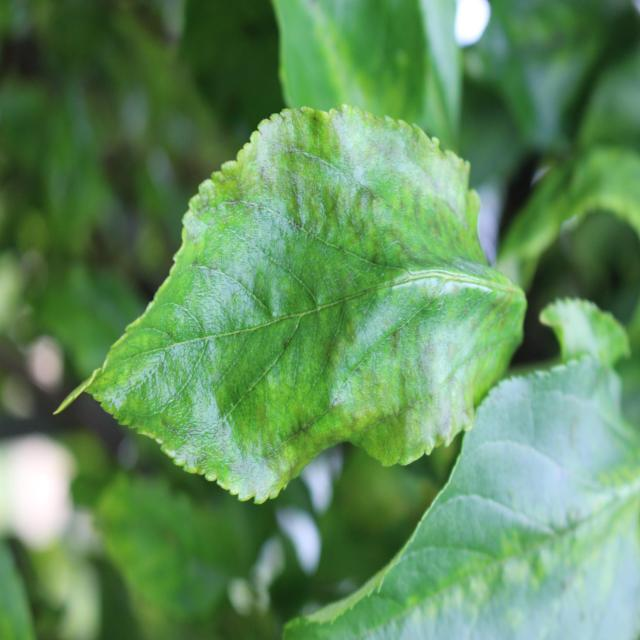healthy: (51, 103, 528, 504), (282, 299, 638, 640)
